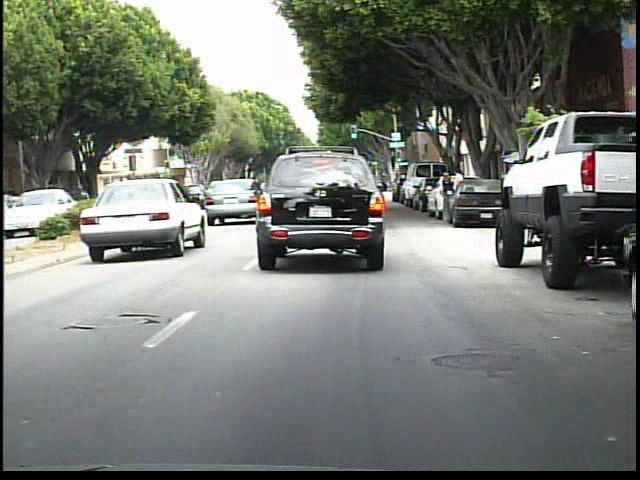person: (440, 173, 457, 227), (450, 166, 467, 219)
